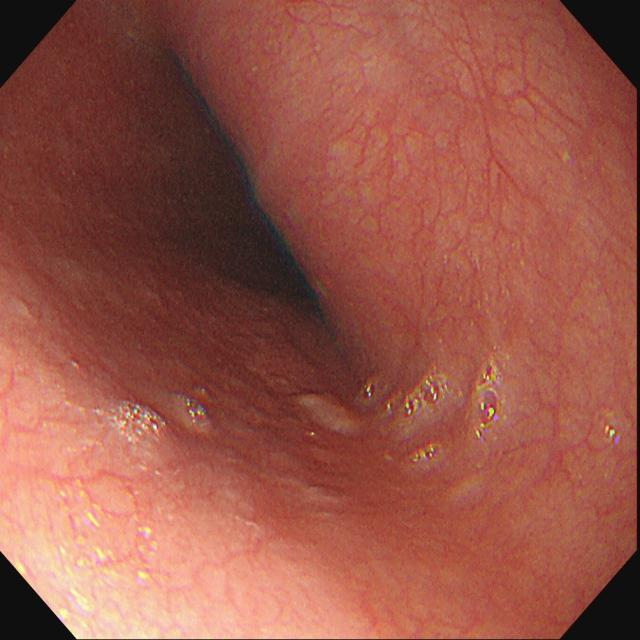A: (295, 391, 360, 442)
T: (357, 356, 510, 467), (102, 400, 172, 444), (178, 392, 209, 426), (600, 416, 625, 446)
